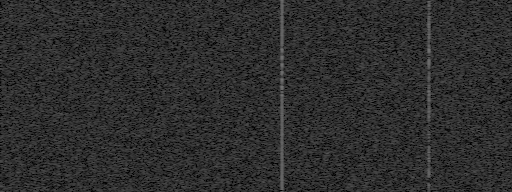wv_am: (279, 0, 285, 190)
wv_lsb: (374, 35, 378, 60), (373, 12, 378, 32), (374, 146, 377, 157), (374, 183, 378, 191), (374, 1, 378, 9), (374, 136, 378, 143), (374, 128, 378, 135), (374, 76, 377, 84), (374, 113, 377, 121), (374, 86, 377, 93), (374, 160, 377, 166), (374, 61, 378, 65), (374, 99, 377, 104), (374, 167, 377, 171), (374, 108, 377, 112), (374, 174, 377, 177)
wv_usb: (426, 1, 432, 178), (426, 179, 432, 192)
